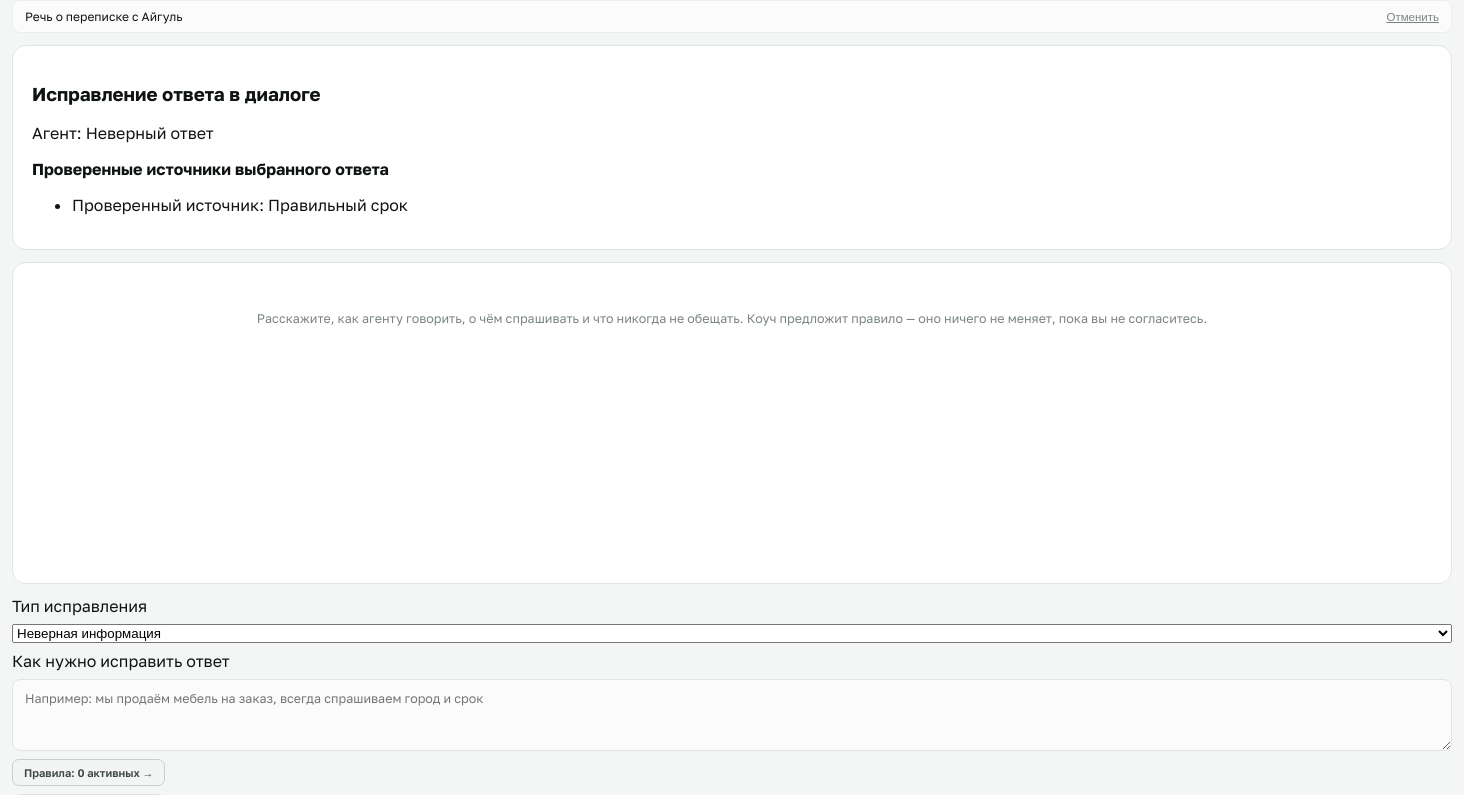
Scenario: keeps the teach tab and drops only the correction params once a live correction completes
In the text box labelled "Как нужно исправить ответ": point(732, 715) [12,679,1452,751], type "Ответить: три дня"
(page scrolled)
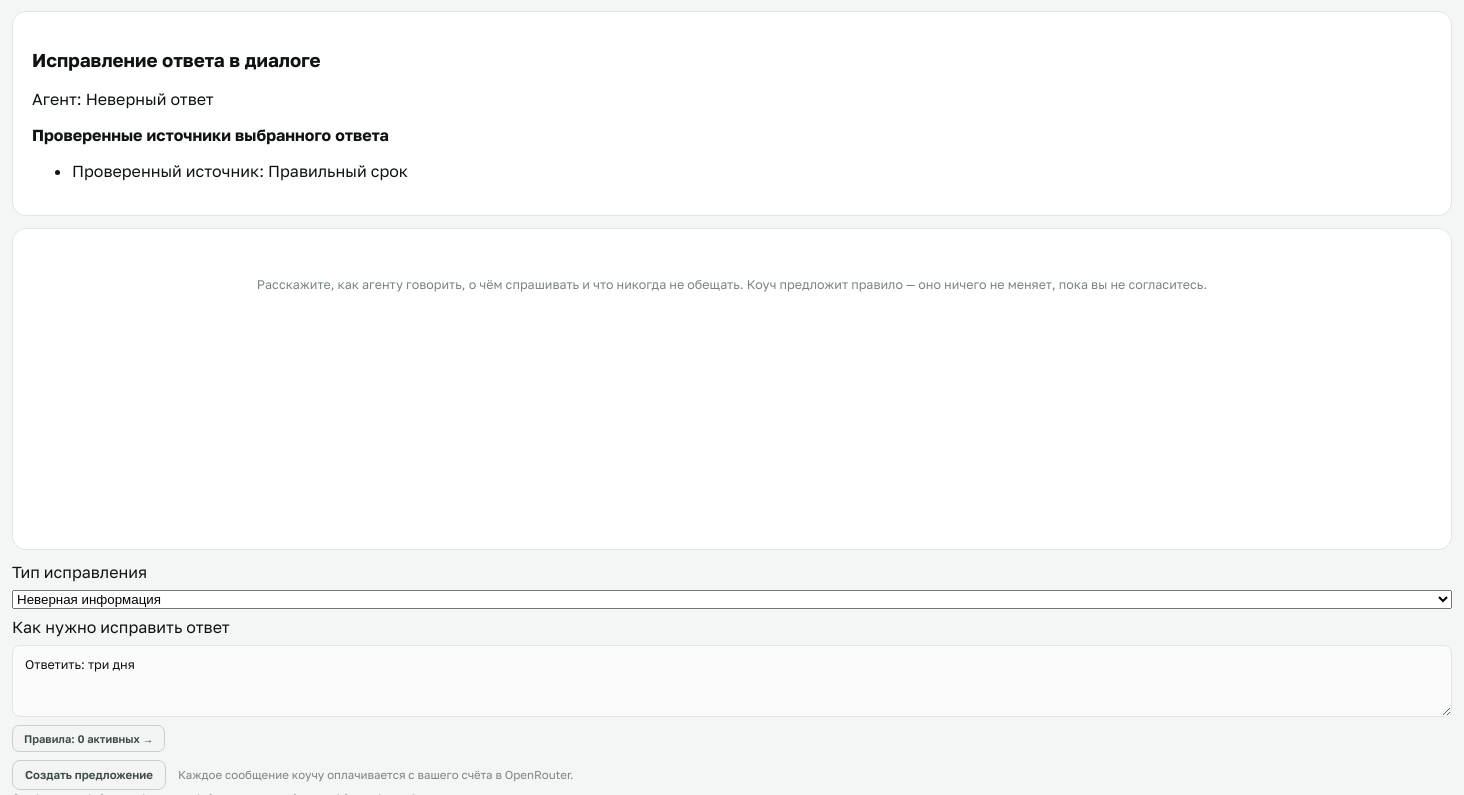
Click the button "Создать предложение": point(89, 775) [12,760,166,790]
(page scrolled)
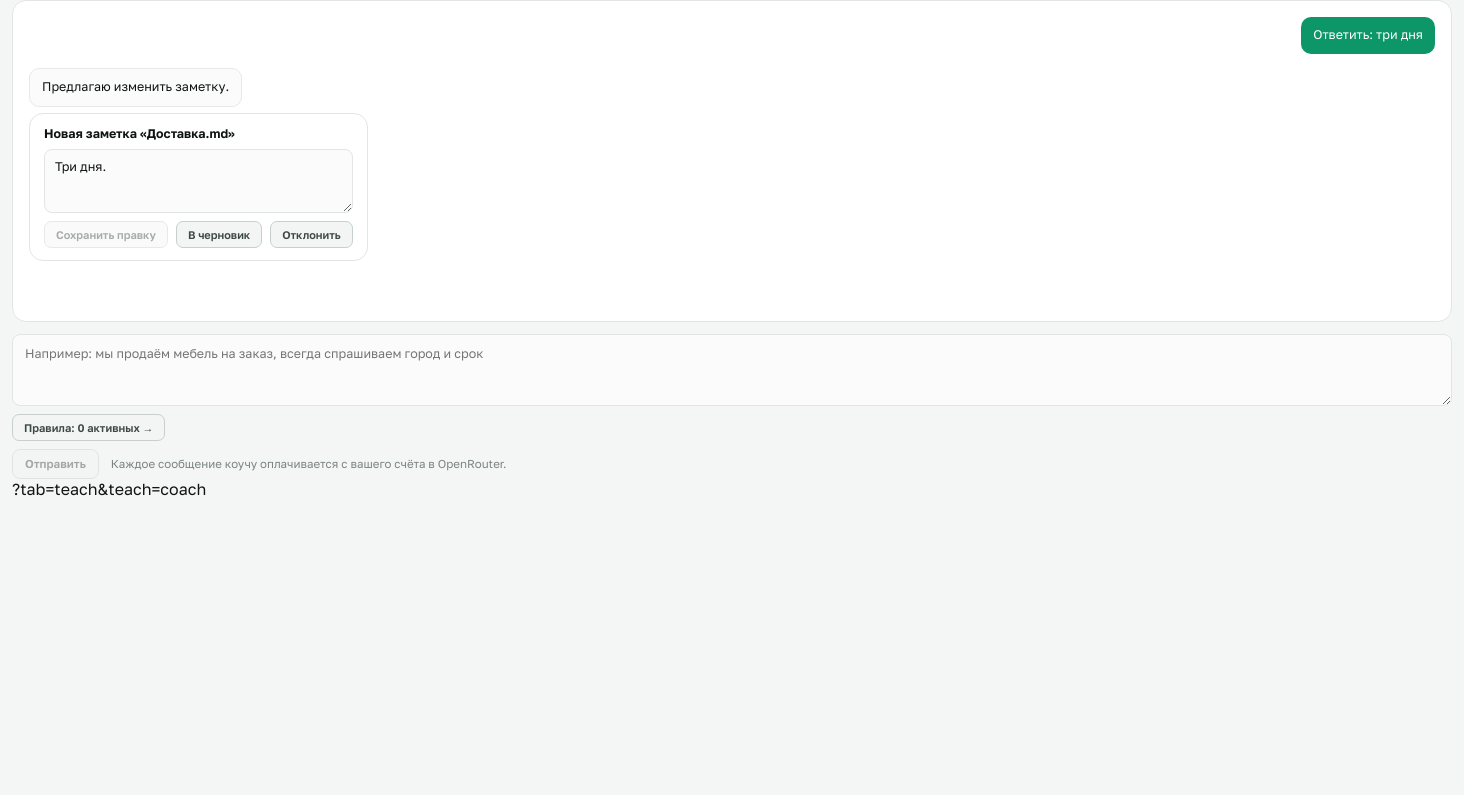
Result: the text with test id "search" reads "?tab=teach&teach=coach" at [12,479,206,499]
